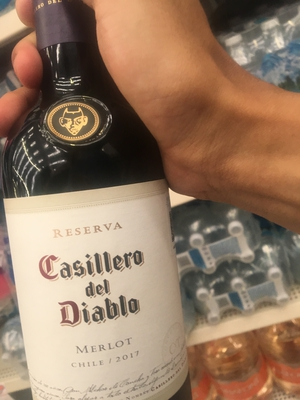casillero del diablo merlot: (7, 35, 188, 400)
